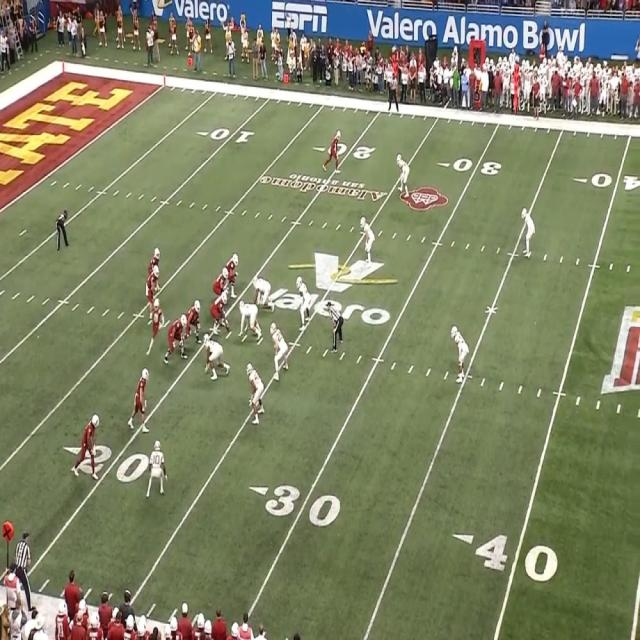center: (210, 293, 231, 332)
db: (149, 442, 167, 496), (454, 327, 470, 383), (250, 365, 264, 426), (523, 209, 537, 257), (399, 154, 411, 193)
lb: (297, 276, 312, 330), (273, 325, 287, 379), (362, 217, 376, 260)
qb: (150, 244, 162, 289)
skill: (75, 413, 99, 479), (132, 368, 150, 431), (150, 299, 162, 345), (326, 132, 340, 170)
